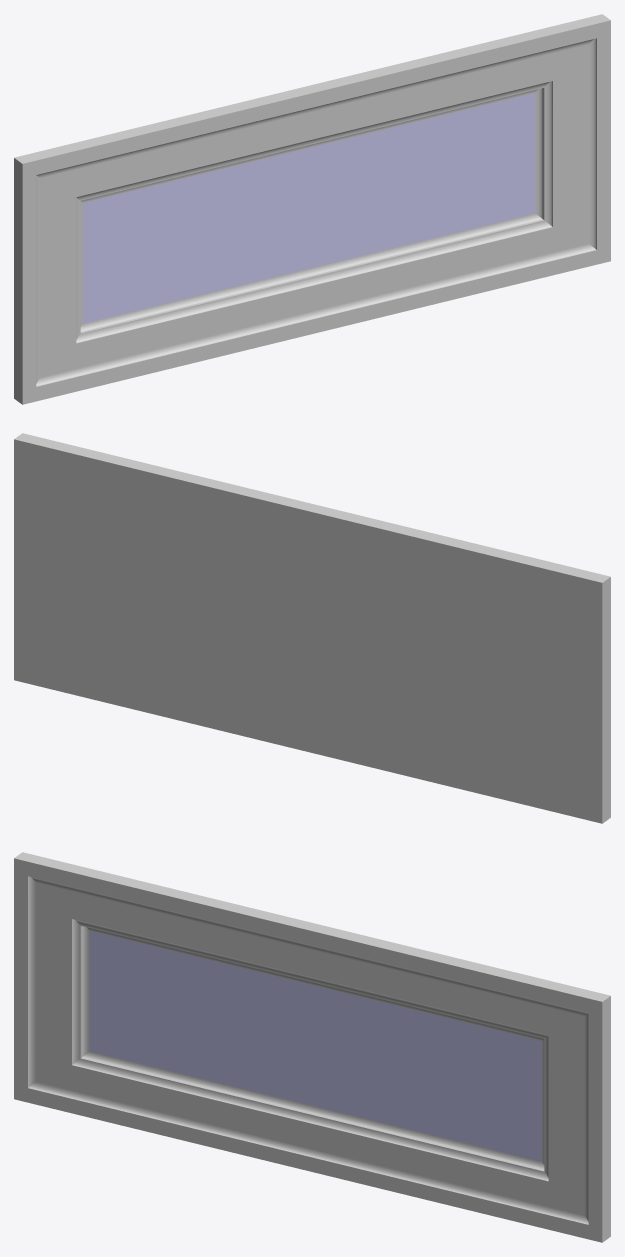
The model's file is frame.glb.
3 views of the same model, one above another, from view 1: azimuth 30°, elevation 25°; view 2: azimuth 150°, elevation 25°; view 3: azimuth 330°, elevation 25° (orthographic).
Parts seen in each view (by area): view 1: object1; view 2: object1; view 3: object1.
Boxes of the visible parts, x1,y1,x2,y2 form: object1: [14, 14, 610, 404]; object1: [14, 433, 610, 823]; object1: [14, 852, 610, 1242].
Bounding box in the file's own units: 6.67 × 2.61 × 0.1669.
